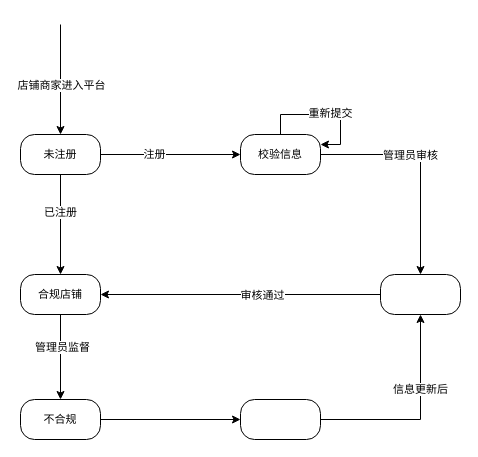
Image size: 478x457. Some labels were removed from this diagram. The box of each missing label's shape, as (x1, y1, x2, y2) in pixels:
审核: (380, 274, 460, 314)
店铺关闭: (240, 398, 320, 440)
